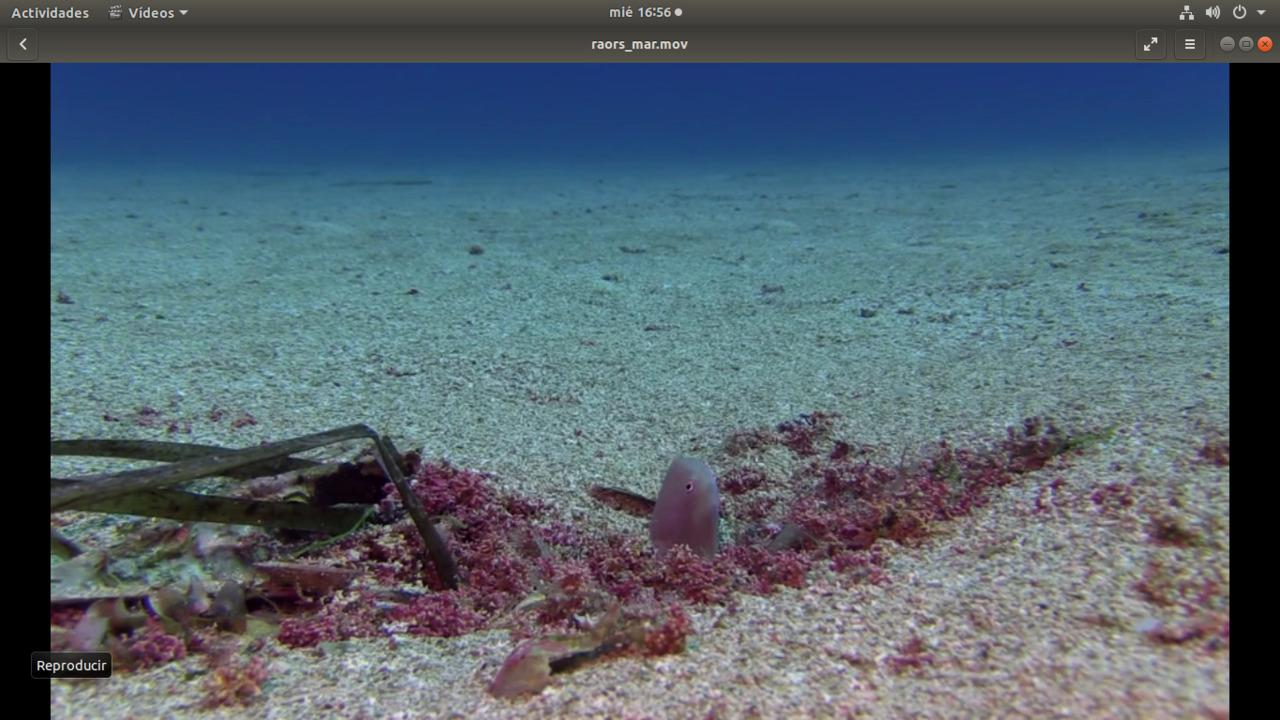raor: (636, 449, 734, 560)
